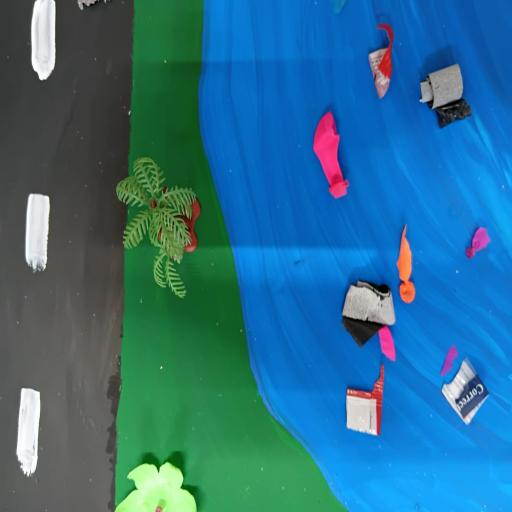trash: (308, 3, 495, 443)
